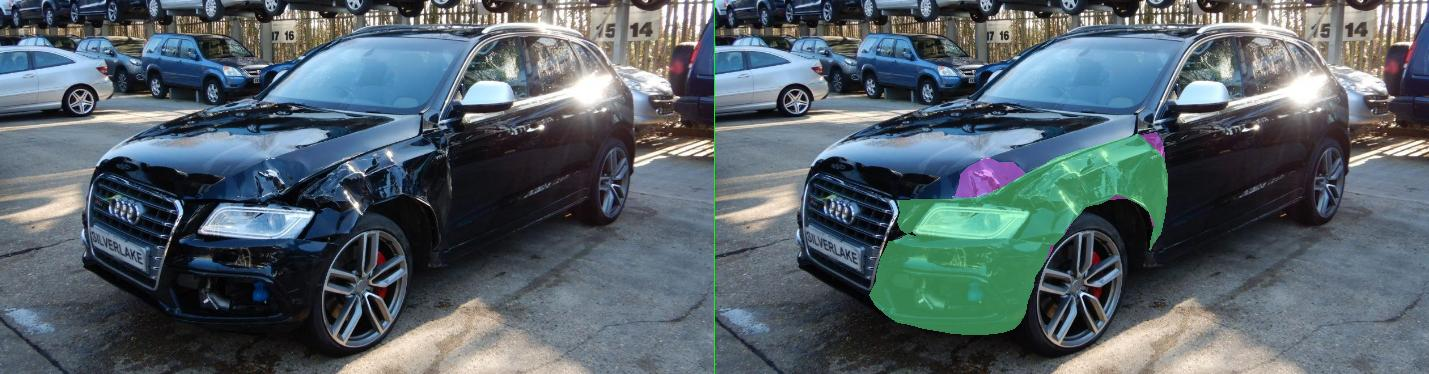Broken part: (364, 133, 905, 250), (308, 234, 670, 334)
Dent: (588, 132, 903, 249), (542, 239, 676, 314), (478, 157, 620, 202)
Scratch: (646, 153, 723, 169), (474, 192, 542, 198), (556, 187, 580, 195), (598, 176, 620, 182)
